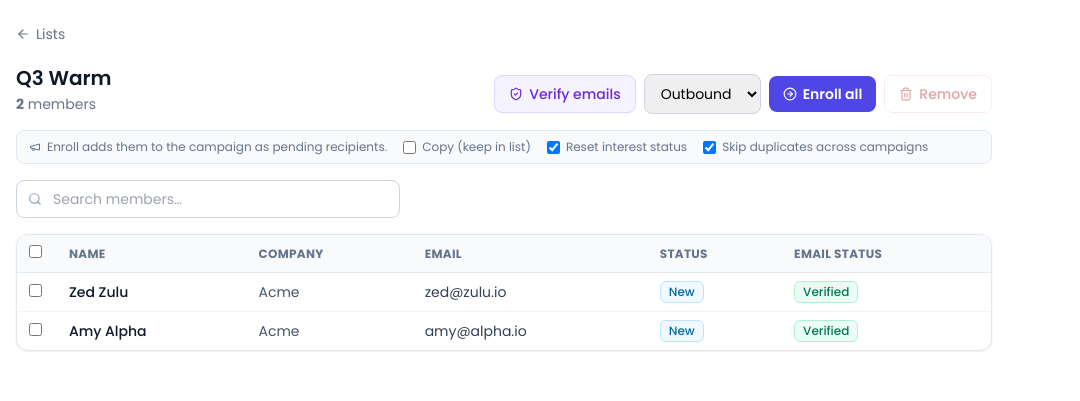
Test: ListDetailPage › verifies all members with real DNS checks and shows the summary
The image size is (1080, 401).
Expected: the heading "Q3 Warm" is shown, [16, 64, 112, 92]
Click the button "Verify emails".
click(565, 94)  # box [494, 75, 636, 113]
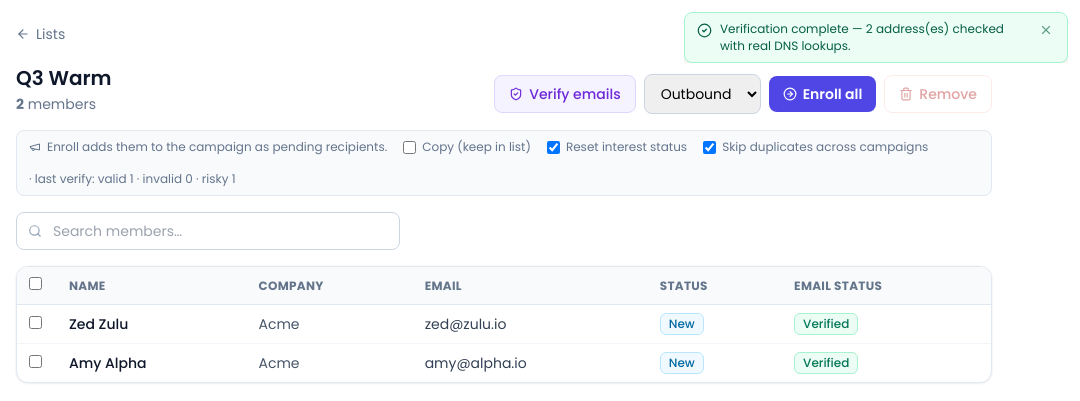
Expected: the text "· last verify: valid 1 · invalid 0 · risky 1" is shown, [29, 171, 236, 187]
